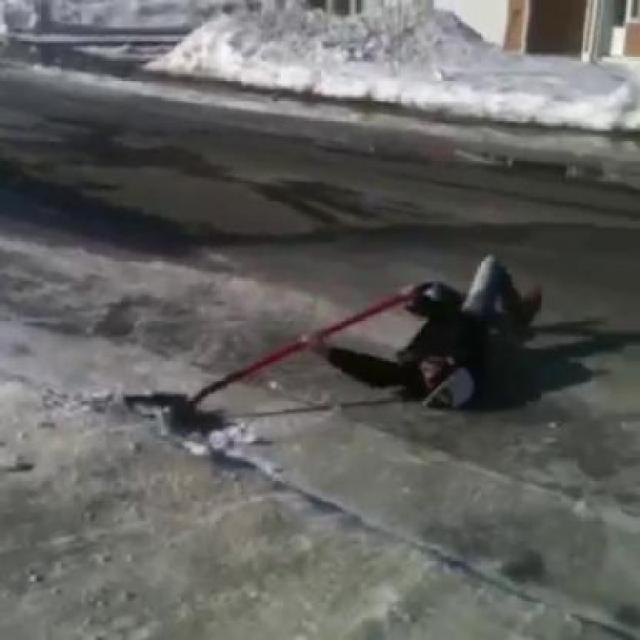fall: (299, 255, 544, 410)
